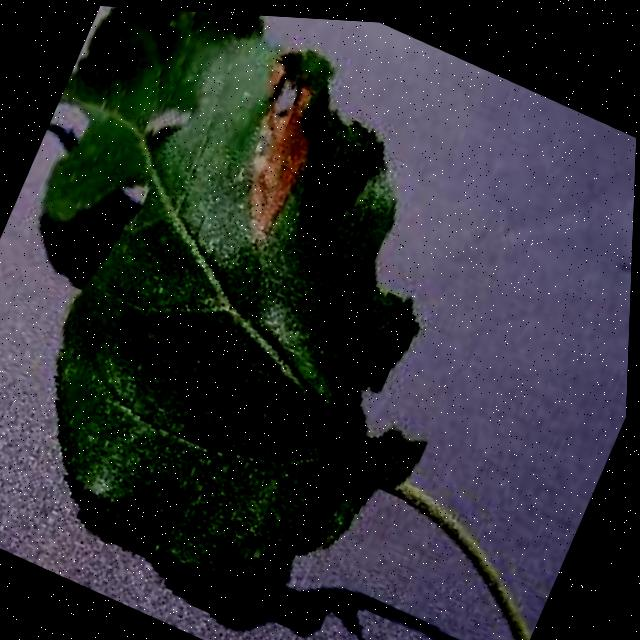black_rot: (192, 33, 362, 267)
